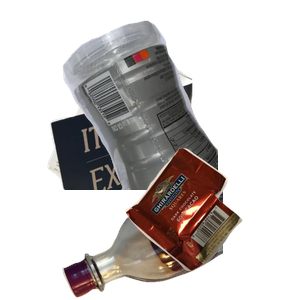glass: (60, 180, 300, 300)
paper: (45, 34, 230, 214)
plastic: (60, 18, 300, 198)
trash: (123, 145, 300, 300)
